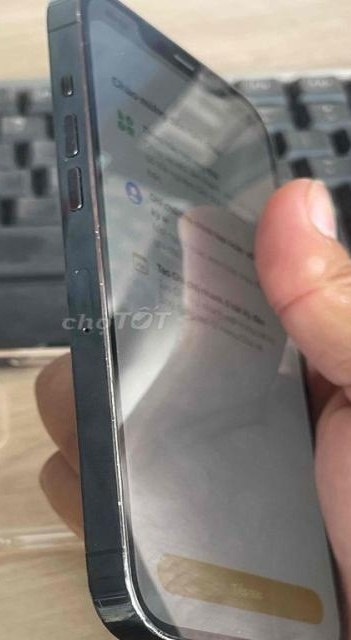scratch: (54, 146, 129, 382)
